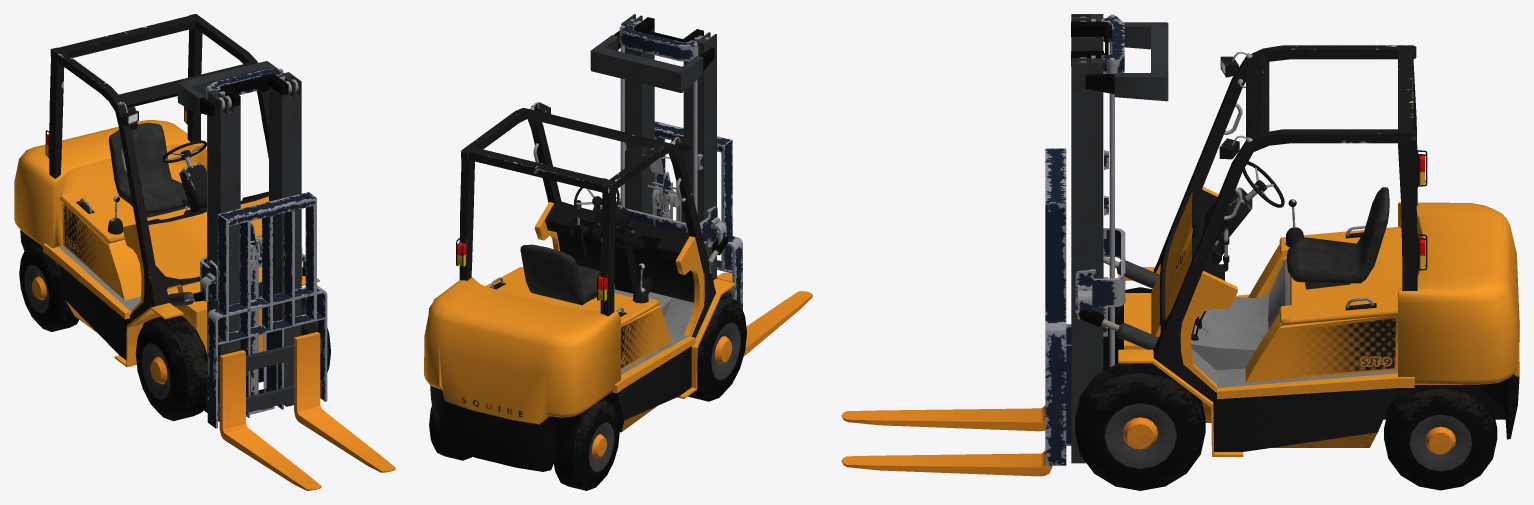
Rendered from warehouse_forklift_gameready.opt.glb.
3 renders of one model, left to right at view 1: azimuth 30°, elevation 25°; view 2: azimuth 150°, elevation 25°; view 3: azimuth 270°, elevation 25°, orthographic. The views are drawn at different scales.
Visible parts, largest first — view 1: ForkLift_ForkLift_01_0; view 2: ForkLift_ForkLift_01_0; view 3: ForkLift_ForkLift_01_0.
Part boxes in pixels (x1=…): ForkLift_ForkLift_01_0: x1=14, y1=14, x2=395, y2=490; ForkLift_ForkLift_01_0: x1=424, y1=14, x2=812, y2=490; ForkLift_ForkLift_01_0: x1=841, y1=14, x2=1519, y2=490.
Size of the model in its own units: 1.31 by 2.58 by 3.86.
Materials: 1 (1 with a texture image).
